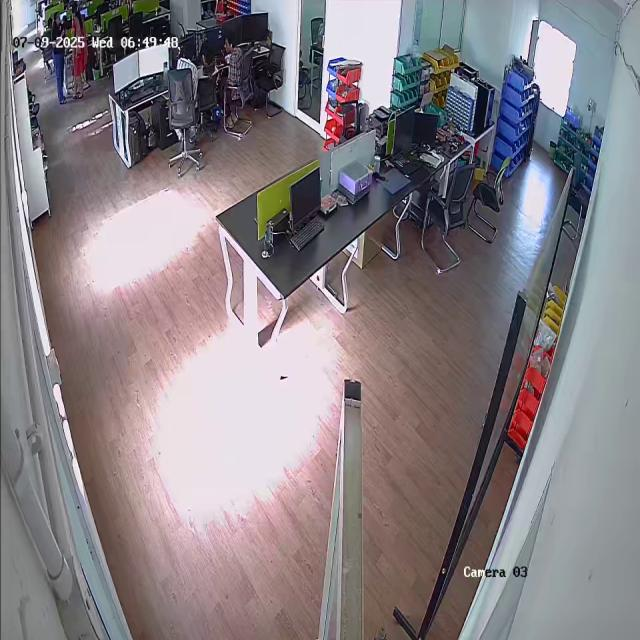person: (48, 10, 68, 106), (70, 8, 90, 101), (221, 36, 249, 98)
